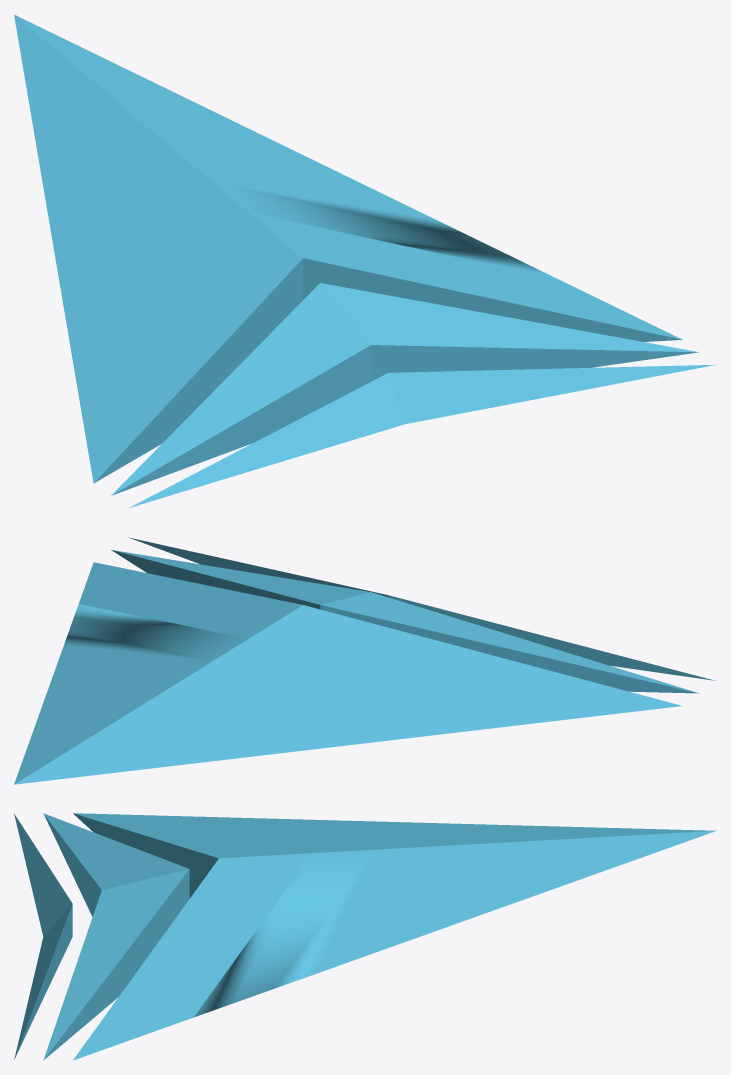
Rendered from FLECHA.fbx.
3 views of the same model, one above another, from view 1: azimuth 30°, elevation 25°; view 2: azimuth 150°, elevation 25°; view 3: azimuth 270°, elevation 25° (orthographic). The views are drawn at different scales.
Visible parts, largest first — view 1: Vert.001; view 2: Vert.001; view 3: Vert.001.
Part boxes in pixels (x1,y1,x2,y2): Vert.001: (14, 14, 716, 508); Vert.001: (14, 537, 715, 784); Vert.001: (14, 813, 716, 1060).
Bounding box in the file's own units: 200 × 43.93 × 240.
